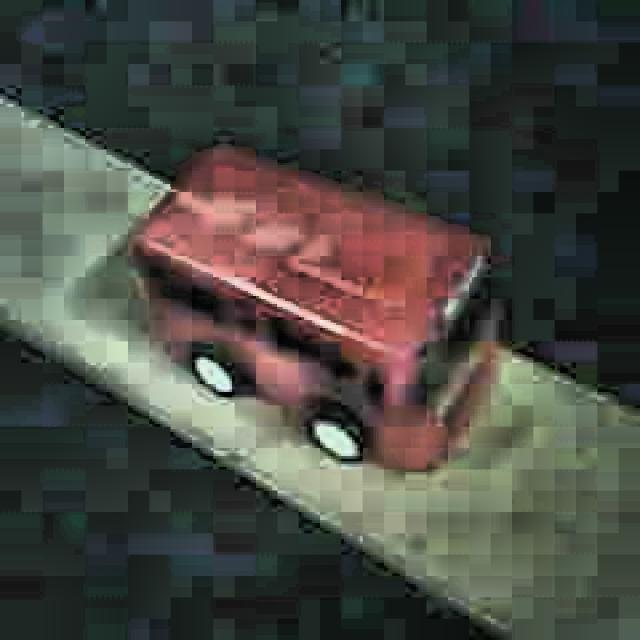bus: (128, 143, 499, 476)
